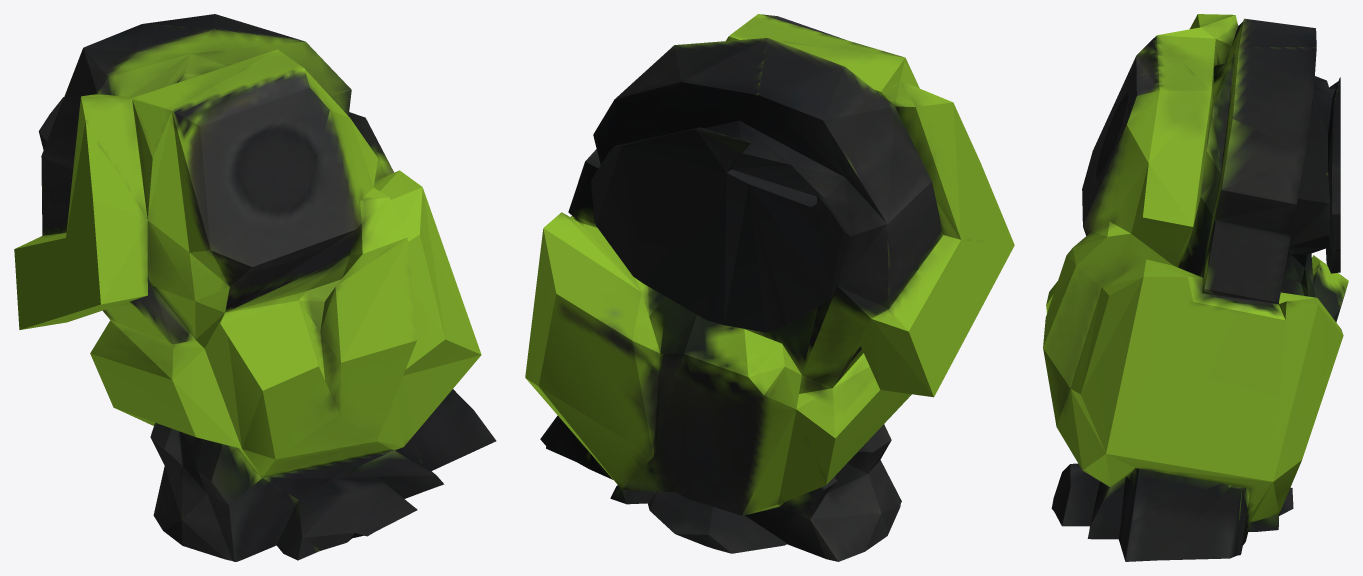
The model's file is SM_ShooterDebris_Thigh_R.fbx.
3 renders of one model, left to right at view 1: azimuth 30°, elevation 25°; view 2: azimuth 150°, elevation 25°; view 3: azimuth 270°, elevation 25°, orthographic. The views are drawn at different scales.
Visible parts, largest first — view 1: SM_ShooterDebris_Thigh_R; view 2: SM_ShooterDebris_Thigh_R; view 3: SM_ShooterDebris_Thigh_R.
Part boxes in pixels (bbox=[...]): SM_ShooterDebris_Thigh_R: bbox=[14, 14, 496, 561]; SM_ShooterDebris_Thigh_R: bbox=[525, 14, 1014, 561]; SM_ShooterDebris_Thigh_R: bbox=[1043, 14, 1348, 561].
Bounding box in the file's own units: 33.5 × 37.77 × 23.06.
1 material, 1 textured.
